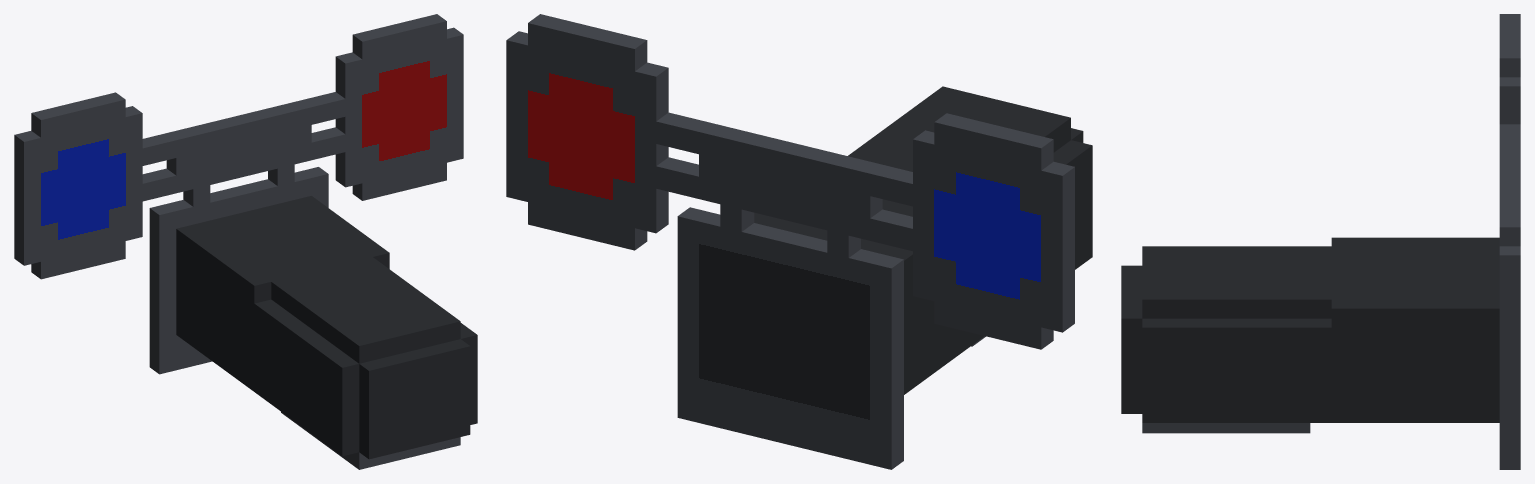
File: Kran.dae
The picture shows the model from 3 angles, left to right: view 1: azimuth 30°, elevation 25°; view 2: azimuth 150°, elevation 25°; view 3: azimuth 270°, elevation 25°; orthographic projection. The views are drawn at different scales.
Visible parts, largest first — view 1: Content; view 2: Content; view 3: Content.
Part boxes in pixels (x1,y1,x2,y2): Content: (14,14,477,469); Content: (506,14,1092,469); Content: (1121,14,1520,469).
Size of the model in its own units: 26 by 16 by 19.
1 material, 1 textured.
